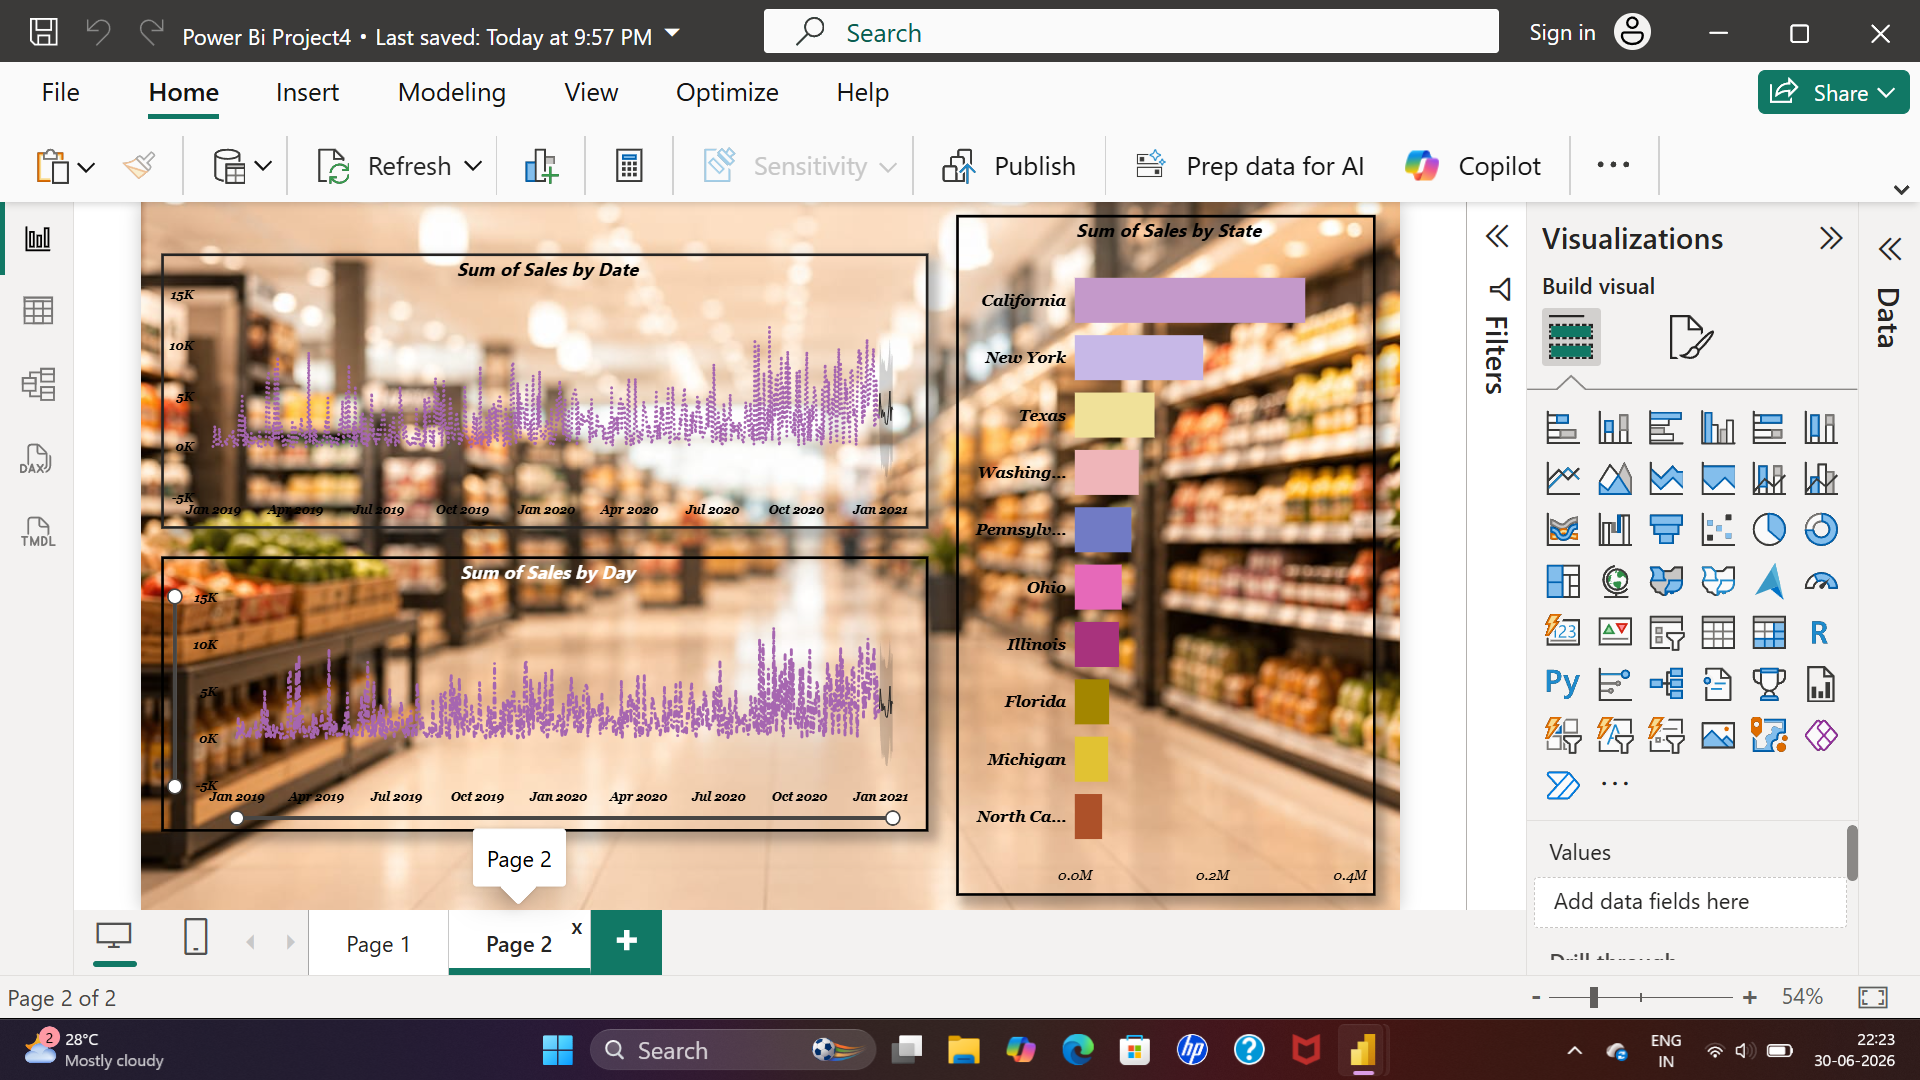

This screenshot's page, from the dashboard's own definition file:
{"tool":"powerbi","page":{"name":"Page 2","canvas":[1280,720],"ordinal":1},"visuals":[{"type":"lineChart","title":"Sum of Sales by Date","fields":{"Category":["calendar.Date.Variation.Date Hierarchy.Year","calendar.Date.Variation.Date Hierarchy.Quarter","calendar.Date.Variation.Date Hierarchy.Month","calendar.Date.Variation.Date Hierarchy.Day"],"Y":["Sum(SuperStore_Sales_Dataset (1).Sales)"]},"box":[20.9,52.3,780,280.2],"z":0},{"type":"lineChart","title":"Sum of Sales by Day","fields":{"Category":["calendar.Date.Variation.Date Hierarchy.Year","calendar.Date.Variation.Date Hierarchy.Quarter","calendar.Date.Variation.Date Hierarchy.Month","calendar.Date.Variation.Date Hierarchy.Day"],"Y":["Sum(SuperStore_Sales_Dataset (1).Sales)"]},"box":[20.9,359.7,780,280.2],"z":1000},{"type":"clusteredBarChart","fields":{"Y":["Sum(SuperStore_Sales_Dataset (1).Sales)"],"Category":["SuperStore_Sales_Dataset (1).State"]},"box":[828,12.5,426.6,692.1],"z":2000}]}

Visuals, with their boxes on the page's 1280x720 design canvas (x1, y1, x2, y2). These are canvas units, not pixel positions in the 1920x1080 screenshot, which may show the page scaled, cropped or inside an application window:
"Sum of Sales by Date" lineChart: box=[21, 52, 801, 332]
"Sum of Sales by Day" lineChart: box=[21, 360, 801, 640]
clusteredBarChart - Sum(SuperStore_Sales_Dataset (1).Sales) x SuperStore_Sales_Dataset (1).State: box=[828, 12, 1255, 705]
